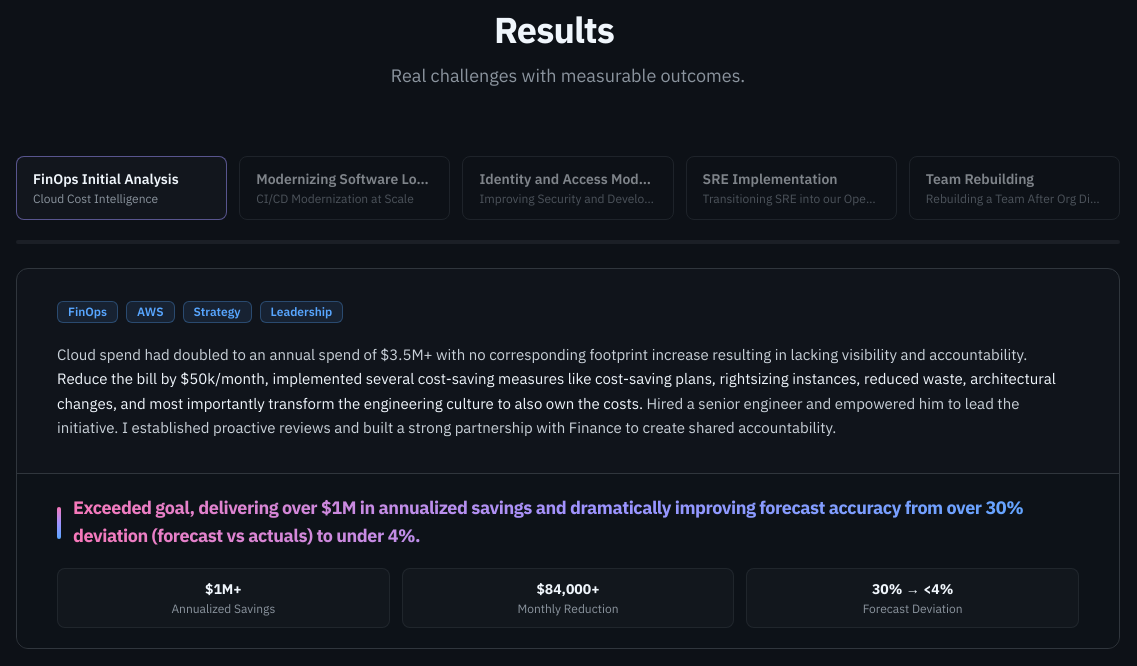
Test: CaseStudiesSection › switches case study when a tab is clicked
What coordinates should you click on to do the following:
click the text "Modernizing Software Logistics for 150+ Engineers"
I would click on:
 (345, 179)
Its box is [256,169,433,189].
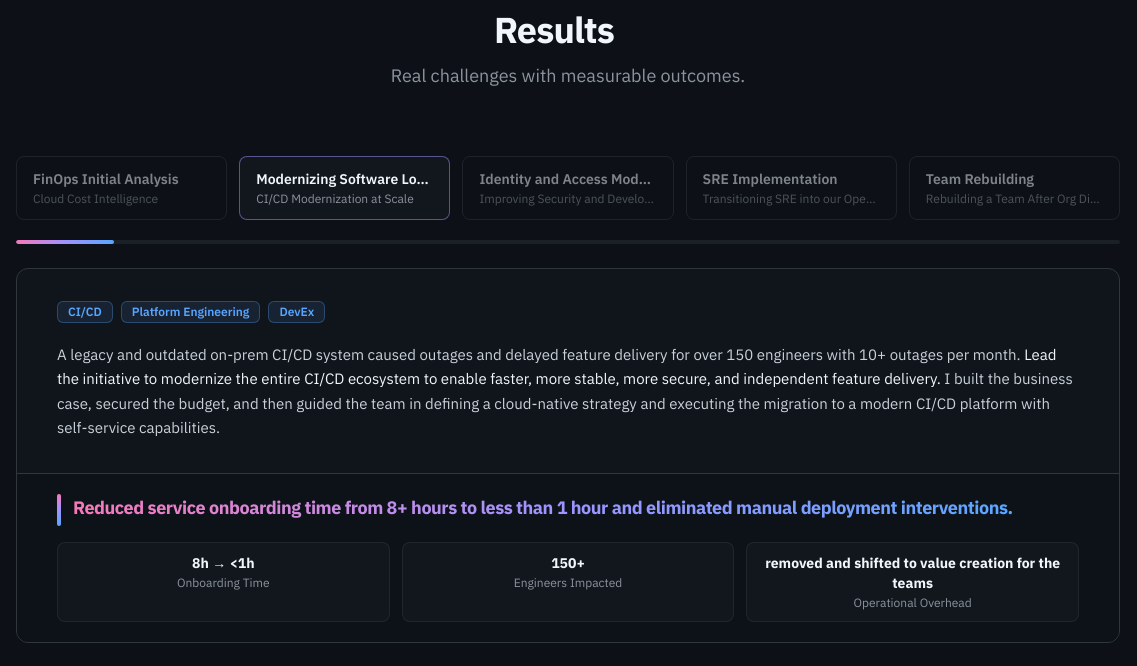
Check: the text "outdated on-prem CI/CD system" is shown, box [57,345,1021,364]
